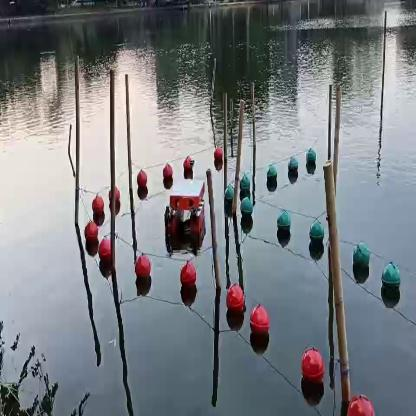green_buoy: (379, 256, 402, 304), (350, 243, 372, 280), (308, 220, 326, 255), (241, 199, 256, 222), (278, 214, 290, 239), (288, 158, 299, 182), (306, 150, 316, 174), (266, 168, 276, 188), (240, 173, 248, 192), (226, 185, 233, 203)
red_buoy: (302, 342, 326, 385), (179, 260, 199, 294), (251, 303, 264, 344), (100, 238, 114, 274), (90, 192, 106, 222), (226, 280, 240, 314), (136, 256, 150, 288), (348, 397, 372, 415), (85, 223, 99, 250), (136, 172, 148, 194), (214, 147, 224, 166), (184, 155, 194, 174), (164, 166, 174, 184)
